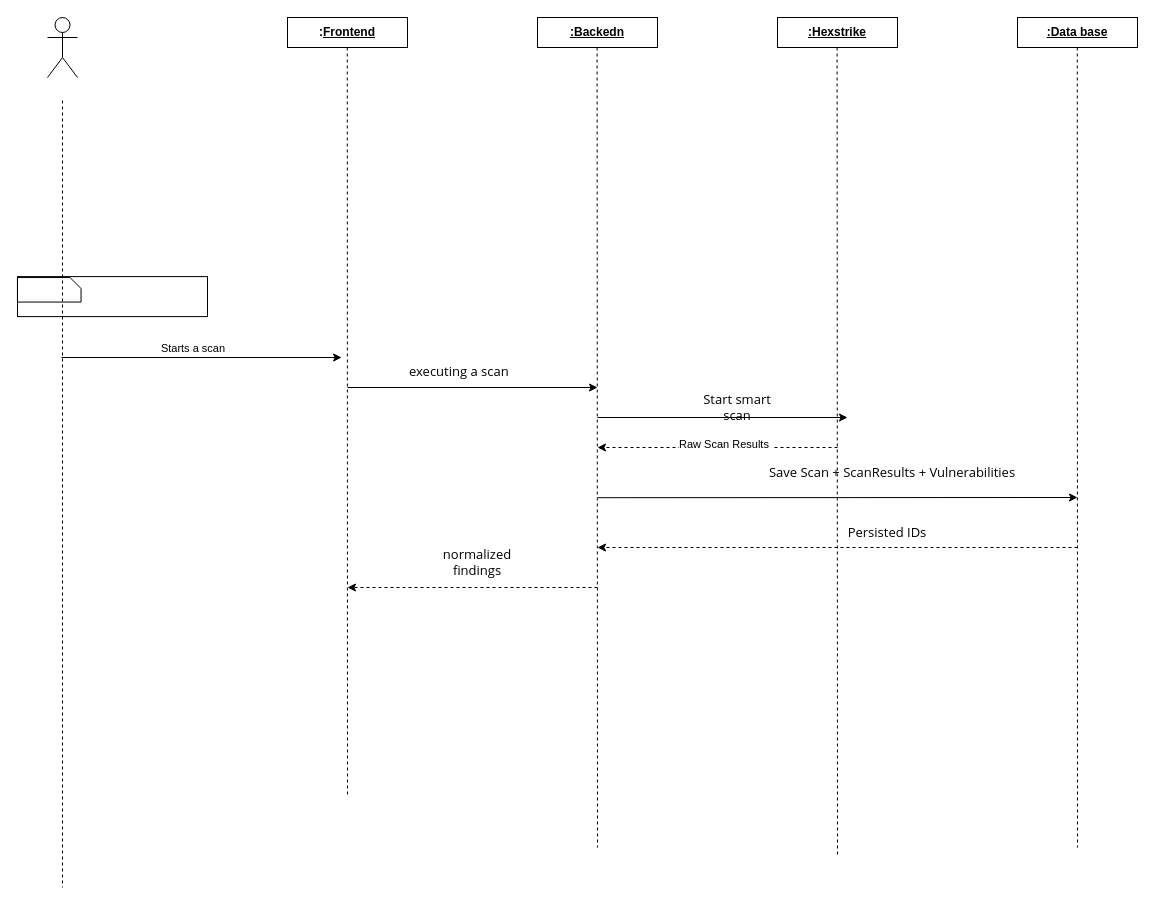
This 1156x906 diagram has some shape labels left out. The shapes that lost their labels are listed below. From the top down, each one's centre as x and y in pixels, then its label:
At point (62, 47): ":Actor".
At point (48, 289): "Login".
